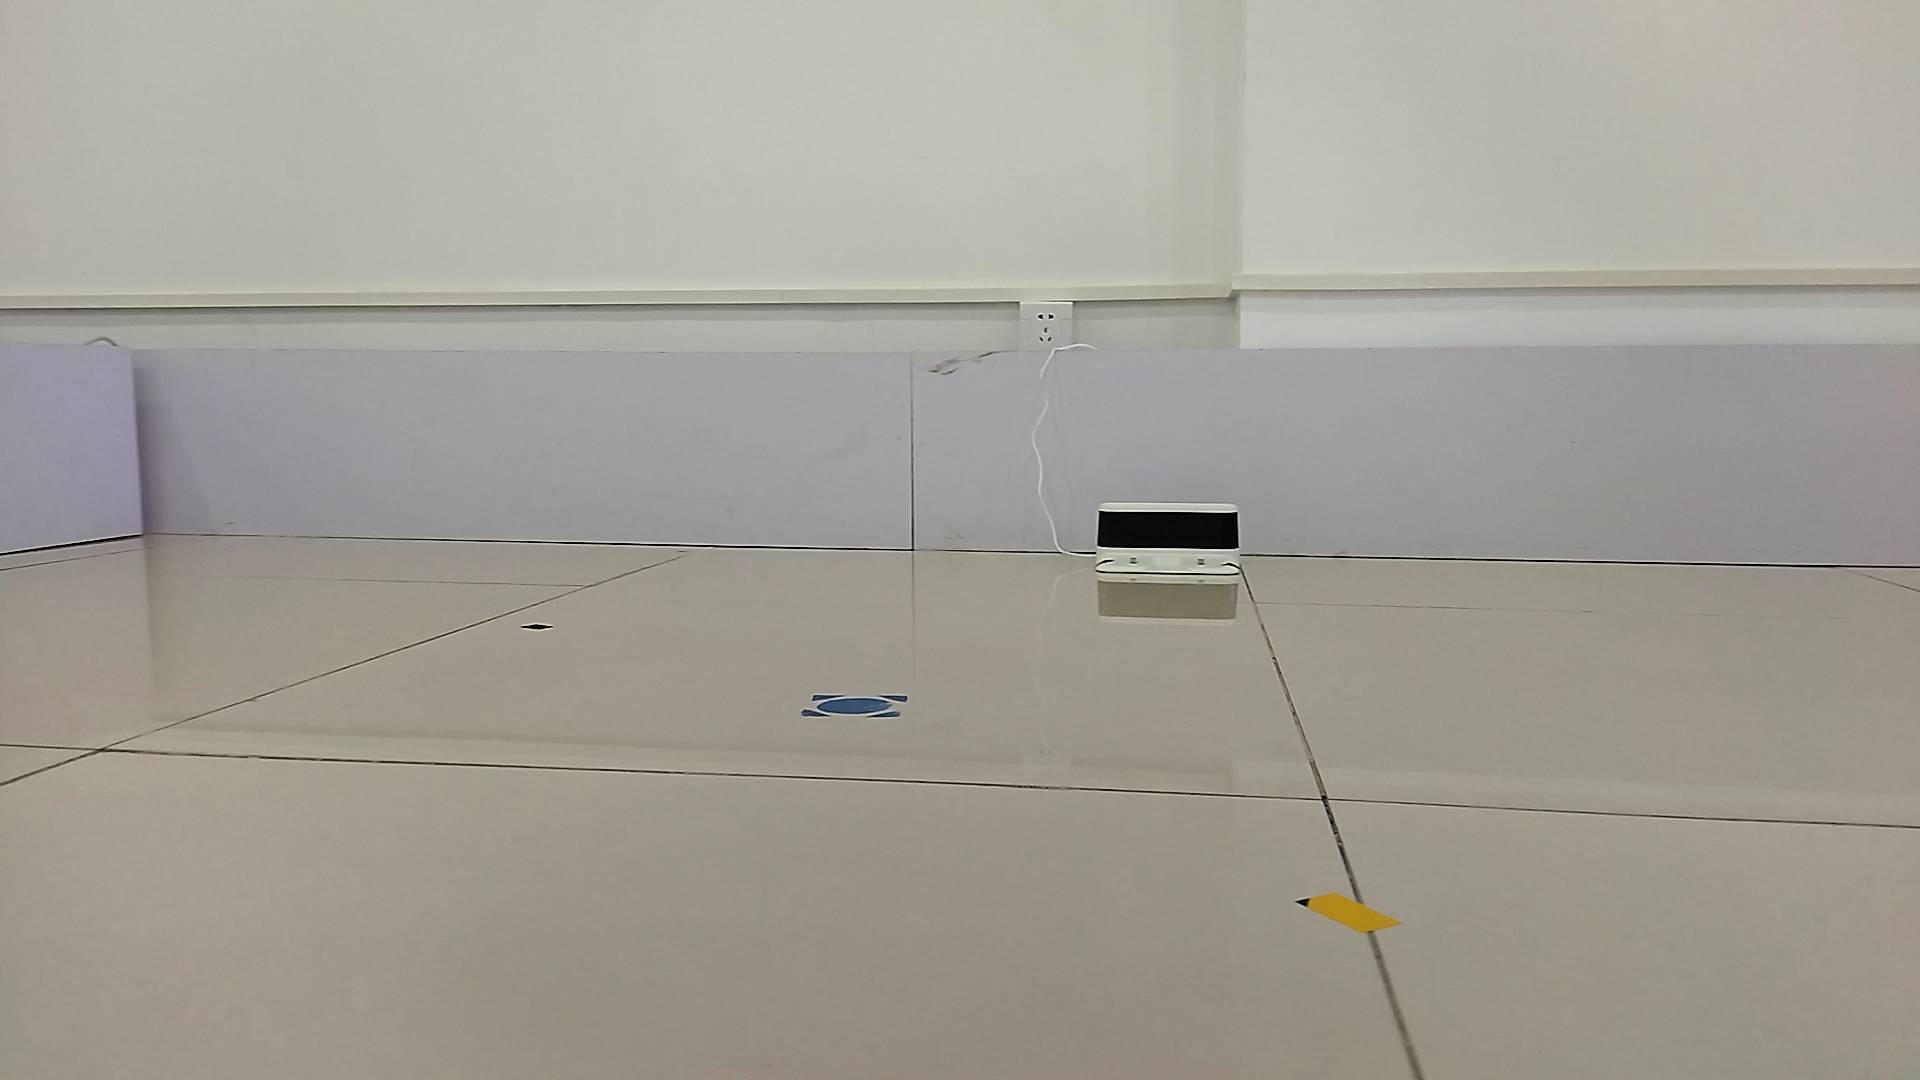recharge seat: (1093, 500, 1244, 575)
